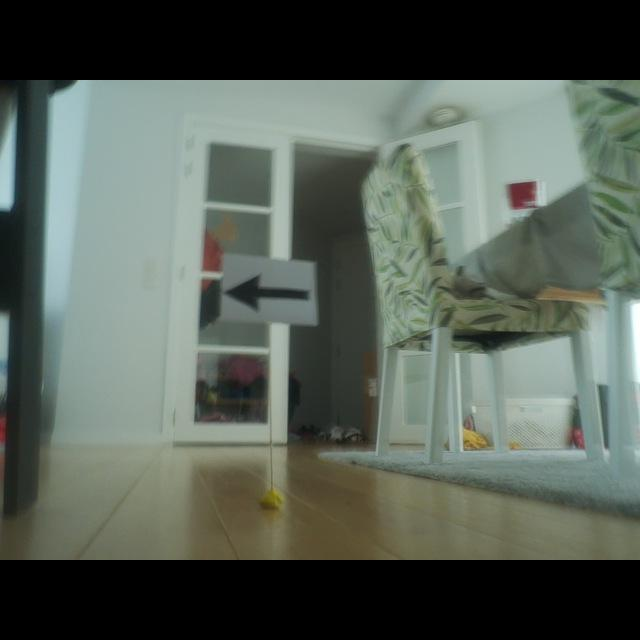balra_nyil: (226, 275, 309, 312)
